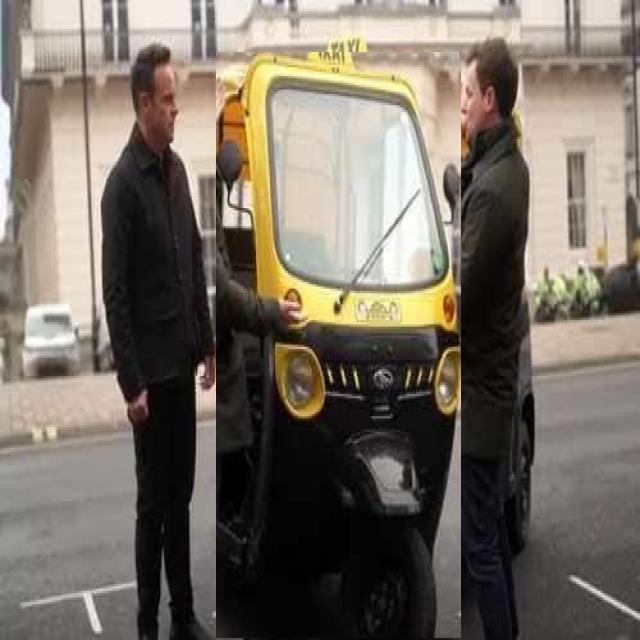autorickshaw: (216, 53, 461, 638)
